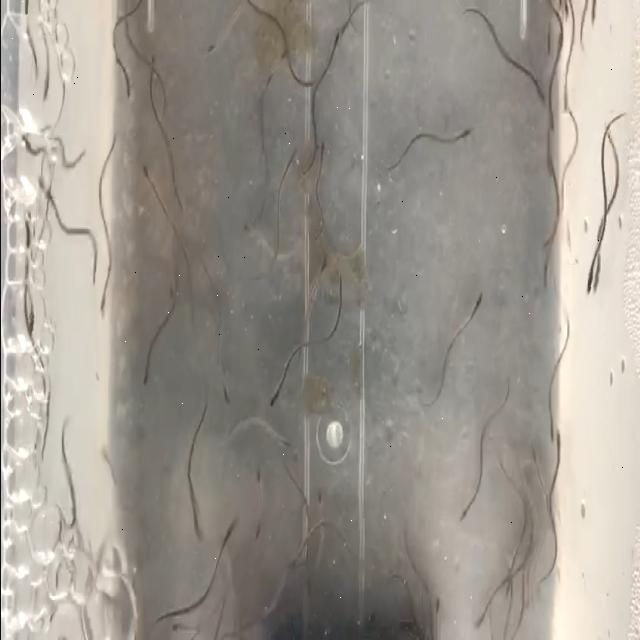active_glass_eel: (19, 210, 36, 258), (14, 115, 34, 155), (265, 380, 285, 418), (453, 120, 478, 150), (274, 426, 296, 460), (536, 255, 550, 308), (582, 252, 598, 296), (34, 172, 52, 210), (314, 242, 330, 284), (171, 608, 192, 640), (558, 74, 570, 128), (202, 34, 225, 62), (120, 64, 134, 110), (591, 254, 606, 296), (540, 20, 554, 64), (262, 57, 280, 91), (470, 285, 486, 321), (244, 218, 264, 246), (24, 306, 38, 346), (536, 80, 550, 116), (552, 428, 566, 464), (140, 164, 158, 192), (40, 70, 54, 106), (327, 28, 344, 56), (254, 513, 268, 547), (223, 512, 240, 540), (458, 490, 471, 526), (475, 608, 491, 636), (218, 371, 230, 408), (98, 288, 110, 324), (431, 597, 446, 625), (253, 465, 266, 497), (315, 145, 327, 179), (547, 412, 557, 452), (313, 484, 326, 514), (486, 430, 502, 454), (504, 564, 514, 602), (140, 361, 154, 388), (528, 440, 538, 472), (495, 457, 508, 474)
